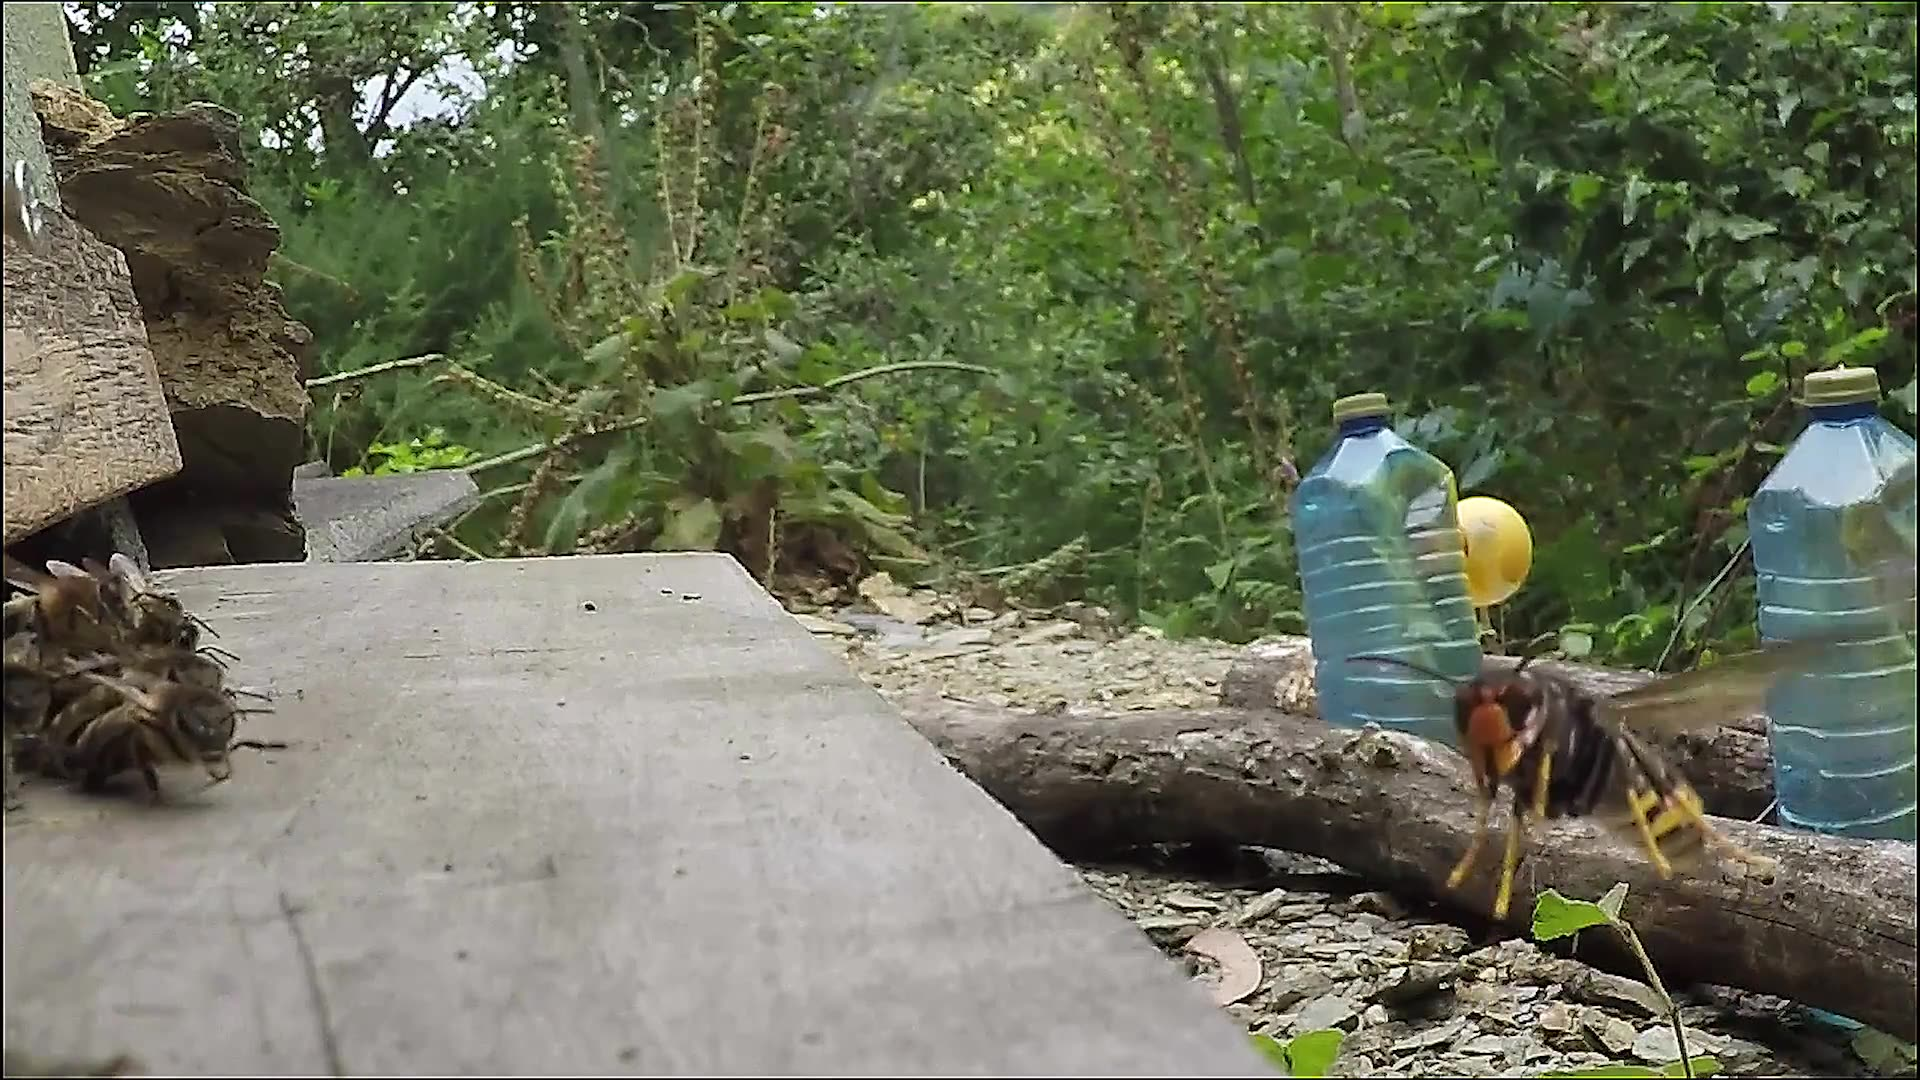bee: (4, 538, 280, 825)
hornet: (1448, 620, 1741, 895)
